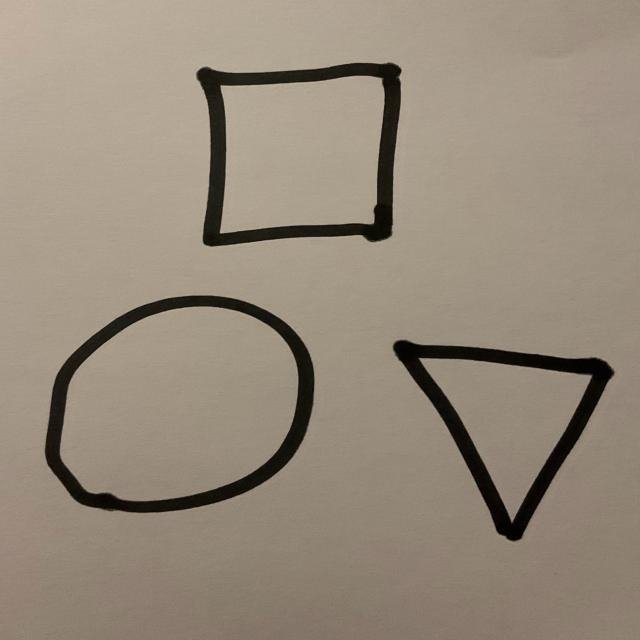Dreieck: (393, 340, 616, 543)
Kreis: (44, 296, 316, 515)
Quadrat: (196, 63, 403, 249)
